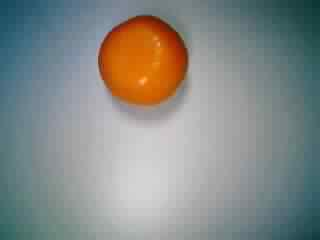orange: (93, 13, 190, 111)
